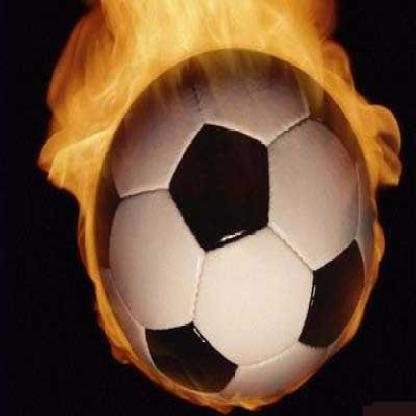ball: (91, 48, 376, 402)
